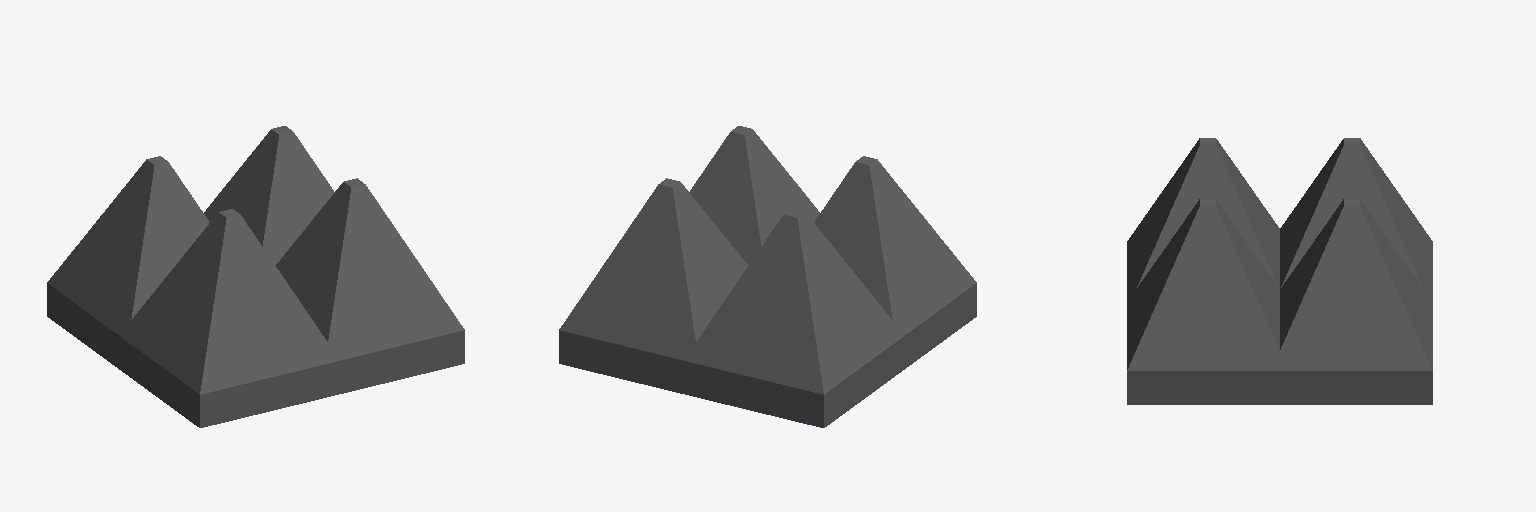
File: spike.obj
3 renders of one model, left to right at view 1: azimuth 30°, elevation 25°; view 2: azimuth 150°, elevation 25°; view 3: azimuth 270°, elevation 25°, orthographic.
Visible parts, largest first — view 1: mergedBlocks; view 2: mergedBlocks; view 3: mergedBlocks.
Boxes of the visible parts, x1=… form: mergedBlocks: x1=47, y1=126, x2=464, y2=427; mergedBlocks: x1=559, y1=126, x2=976, y2=427; mergedBlocks: x1=1127, y1=138, x2=1432, y2=404.
Size of the model in its own units: 0.85 by 0.516 by 0.85.